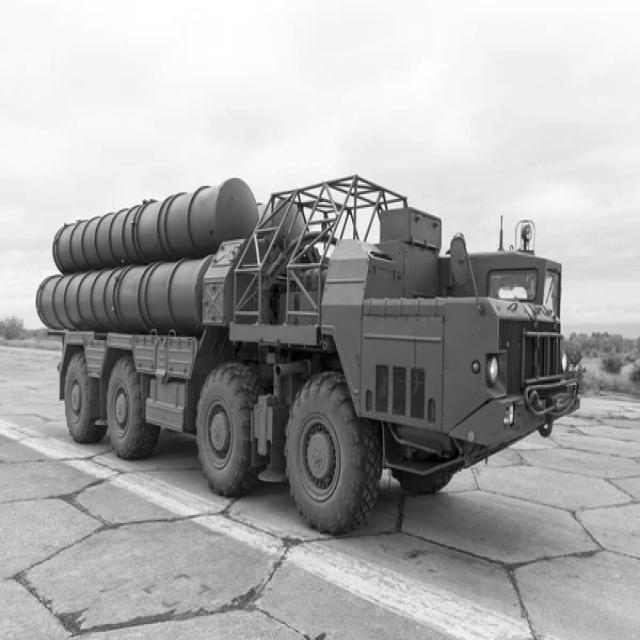Truck: (36, 175, 582, 533)
